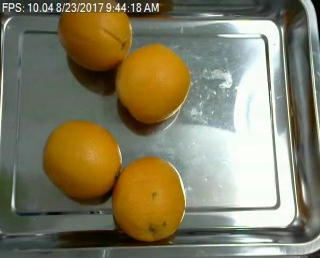Orange: (42, 120, 121, 201), (115, 41, 191, 122), (112, 157, 185, 239), (56, 1, 131, 69)
